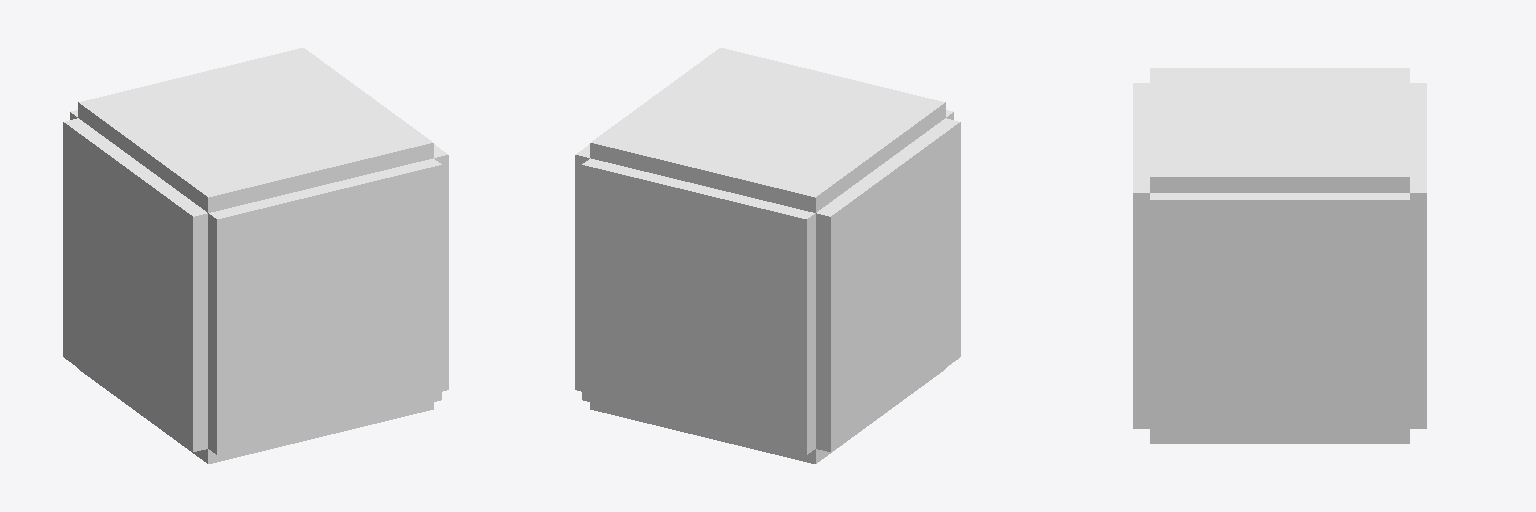
The model's file is brownbox.obj.
3 renders of one model, left to right at view 1: azimuth 30°, elevation 25°; view 2: azimuth 150°, elevation 25°; view 3: azimuth 270°, elevation 25°, orthographic.
Parts seen in each view (by area): view 1: object 1; view 2: object 1; view 3: object 1.
Boxes of the visible parts, x1=… form: object 1: x1=63, y1=48, x2=448, y2=463; object 1: x1=575, y1=48, x2=960, y2=463; object 1: x1=1133, y1=68, x2=1426, y2=443.
Size of the model in its own units: 1.7 by 1.7 by 1.7.